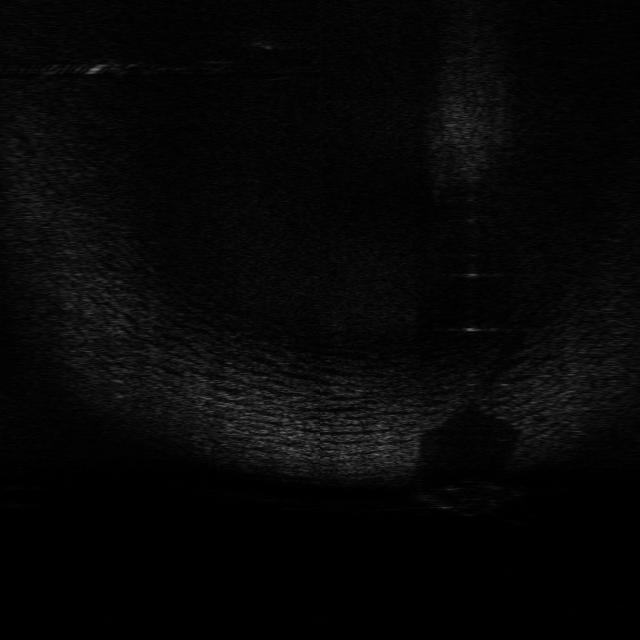cube: (418, 480, 526, 518)
